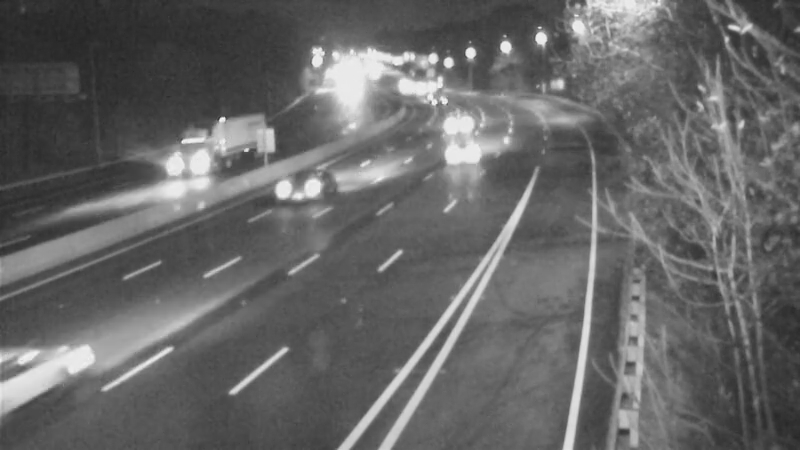vehicle: (410, 119, 490, 199), (260, 152, 340, 232), (173, 122, 253, 202), (432, 99, 482, 149)
